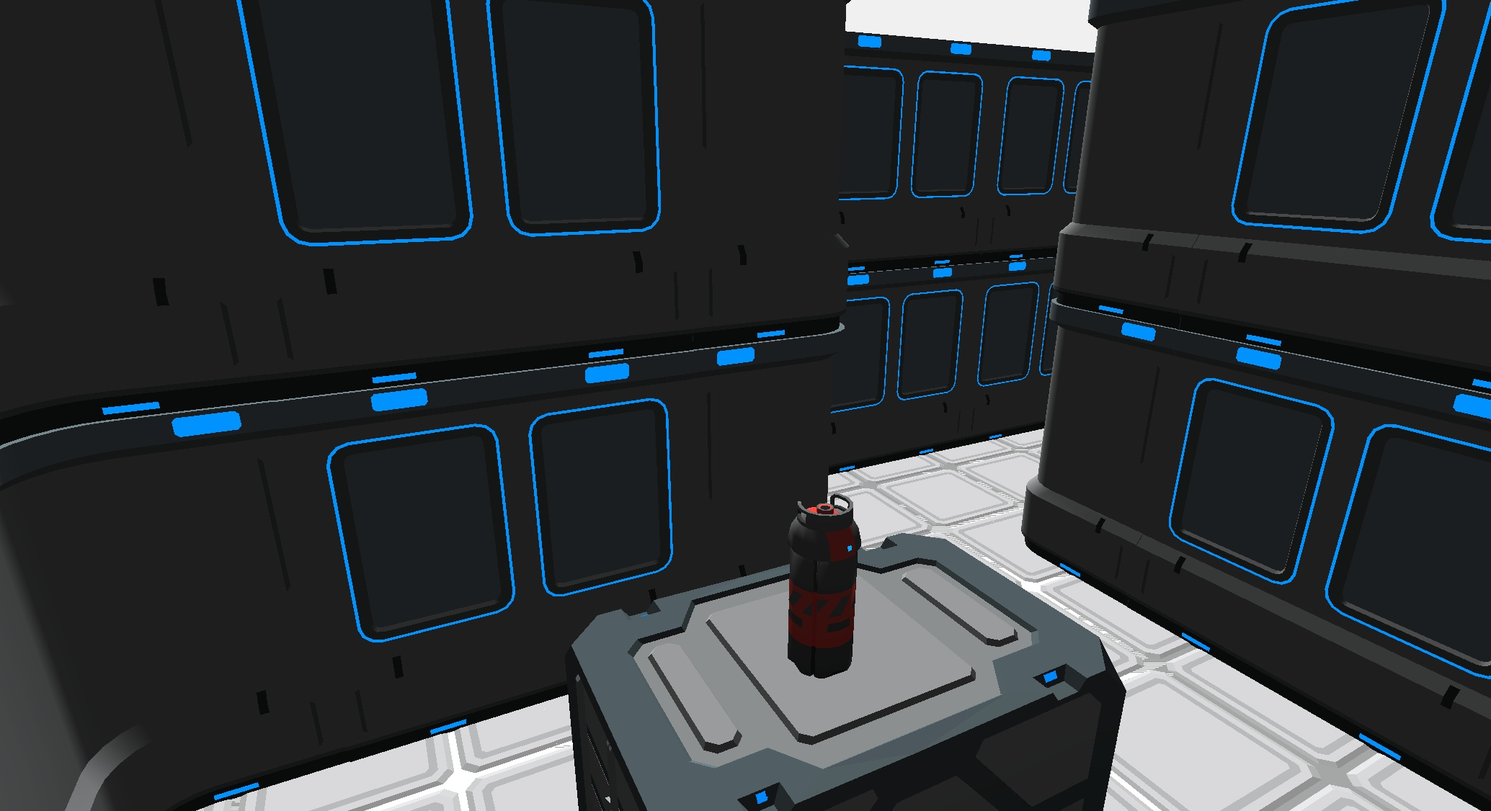red_barrel: (788, 494, 860, 677)
